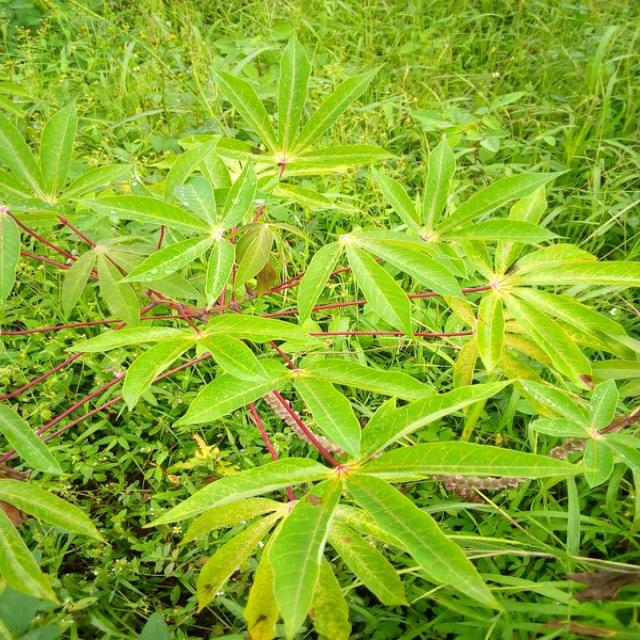cassava leaf: (4, 29, 638, 638)
